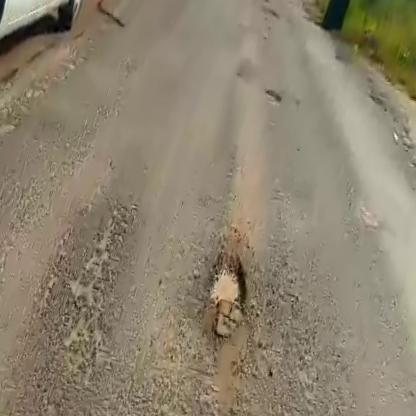pothole: (198, 248, 259, 330)
